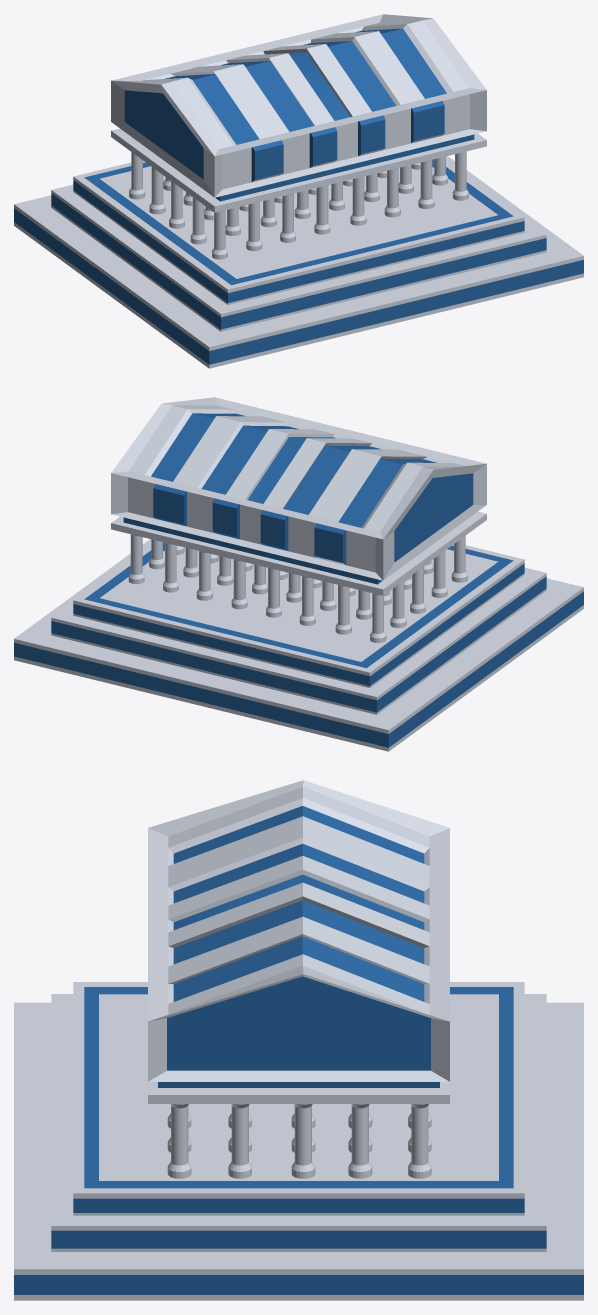
File: Temple1.fbx
3 views of the same model, one above another, from view 1: azimuth 30°, elevation 25°; view 2: azimuth 150°, elevation 25°; view 3: azimuth 270°, elevation 25° (orthographic). The views are drawn at different scales.
Parts seen in each view (by area): view 1: pCylinder267; view 2: pCylinder267; view 3: pCylinder267.
Part boxes in pixels (left/top/right/bottom): pCylinder267: left=14, top=14, right=583, bottom=368; pCylinder267: left=14, top=397, right=583, bottom=751; pCylinder267: left=14, top=780, right=583, bottom=1300.
Size of the model in its own units: 6.03 by 3.07 by 5.44.
